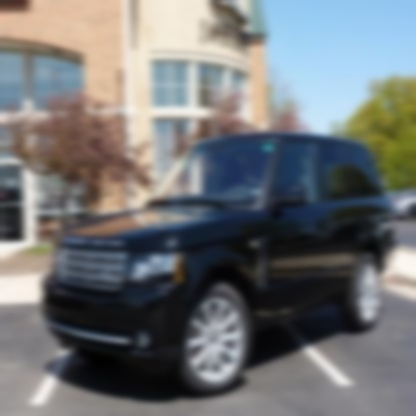Vehicle: (38, 130, 398, 397)
